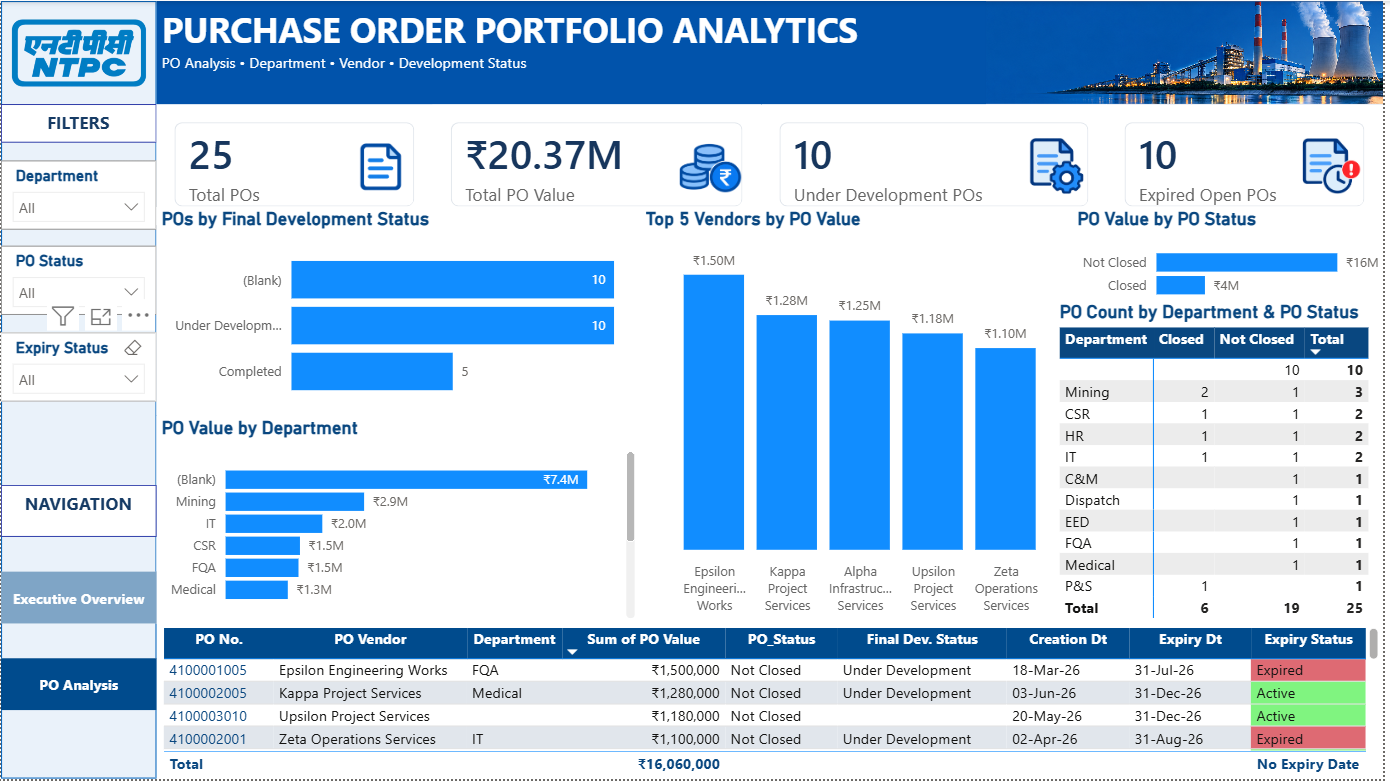

The page's visual inventory and layout, read from the dashboard file:
{"tool":"powerbi","page":{"name":"PO Analysis","canvas":[1280,720],"ordinal":1},"visuals":[{"type":"image","box":[864,0,416,96],"z":0},{"type":"shape","box":[144,0,768,96],"z":1000},{"type":"shape","box":[0,0,144,720],"z":2000},{"type":"textbox","box":[0,96.1,143.8,35.4],"z":3000},{"type":"textbox","box":[144,0,1128,96],"z":4000},{"type":"cardVisual","fields":{"Data":["Fact_PO.Total POs"]},"box":[144,96,256,112],"z":5000,"group":"g1"},{"type":"slicer","fields":{"Values":["Fact_PO.Department"]},"box":[0,147.1,144,64],"z":5000},{"type":"cardVisual","fields":{"Data":["Fact_PO.Under Development POs"]},"box":[704,96,320,112],"z":6000,"group":"g3"},{"type":"slicer","fields":{"Values":["Fact_PO.PO_Status"]},"box":[0,226.8,144,64],"z":6000},{"type":"cardVisual","fields":{"Data":["Fact_PO.Expired Open POs"]},"box":[1024,96,256,112],"z":7000,"group":"g4"},{"type":"slicer","fields":{"Values":["Fact_PO.Expiry Status Column"]},"box":[0,306.5,144,64],"z":7000},{"type":"image","box":[0,0,144,96],"z":8000},{"type":"cardVisual","fields":{"Data":["Fact_PO.Total PO Value"]},"box":[400,96,304,112],"z":11000,"group":"g2"},{"type":"clusteredBarChart","title":"PO Value by Department","fields":{"Category":["Fact_PO.Department"],"Y":["Sum(Fact_PO.PO Value)"]},"box":[144,384,448,192],"z":11000},{"type":"group","id":"g1","title":"Group 1","box":[144,96,256,112],"z":13000},{"type":"clusteredBarChart","title":"POs by Final Development Status","fields":{"Category":["Fact_PO.Final Dev. Status"],"Y":["CountNonNull(Fact_PO.PO No.)"]},"box":[143.9,191.3,448.3,192.7],"z":13500},{"type":"group","id":"g2","title":"Group 2","box":[400,96,304,112],"z":14000},{"type":"group","id":"g3","title":"Group 3","box":[704,96,320,112],"z":15000},{"type":"clusteredColumnChart","title":"Top 5 Vendors by PO Value","fields":{"Category":["Fact_PO.PO Vendor"],"Y":["Sum(Fact_PO.PO Value)"]},"box":[592.2,191.3,399.4,384.1],"z":15500},{"type":"group","id":"g4","title":"Group 4","box":[1024,96,256,112],"z":16000},{"type":"image","box":[320,112,64,80],"z":17000,"group":"g1"},{"type":"image","box":[944,112,64,80],"z":18000,"group":"g3"},{"type":"clusteredBarChart","title":"PO Value by PO Status","fields":{"Category":["Fact_PO.PO_Status"],"Y":["Sum(Fact_PO.PO Value)"]},"box":[991.6,191.3,289.1,96.4],"z":18000},{"type":"image","box":[1200,112,64,80],"z":19000,"group":"g4"},{"type":"textbox","box":[0,448,144,48],"z":19000},{"type":"image","box":[624,112,64,80],"z":20000,"group":"g2"},{"type":"actionButton","box":[0,528,144,48],"z":20000},{"type":"actionButton","box":[0,608,144,48],"z":21000},{"type":"pivotTable","title":"PO Count by Department & PO Status","fields":{"Rows":["Fact_PO.Department"],"Columns":["Fact_PO.PO_Status"],"Values":["CountNonNull(Fact_PO.PO No.)"]},"box":[974.8,277.9,304.5,307.3],"z":21500},{"type":"tableEx","fields":{"Values":["Fact_PO.PO No.","Fact_PO.PO Vendor","Fact_PO.Department","Sum(Fact_PO.PO Value)","Fact_PO.PO_Status","Fact_PO.Final Dev. Status","Fact_PO.Creation Dt","Fact_PO.Expiry Dt","Fact_PO.Expiry Status"]},"box":[144.6,575.2,1135.2,144.6],"z":22000}]}

Visuals, with their boxes in screenshot pixels (x1, y1, x2, y2), scaled from the page's 1280x720 canvas onto the 1390x781 screenshot:
image: pyautogui.locateOnScreen(938, 0, 1389, 104)
shape: pyautogui.locateOnScreen(156, 0, 990, 104)
shape: pyautogui.locateOnScreen(0, 0, 156, 780)
textbox: pyautogui.locateOnScreen(0, 104, 156, 143)
textbox: pyautogui.locateOnScreen(156, 0, 1381, 104)
cardVisual - Fact_PO.Total POs: pyautogui.locateOnScreen(156, 104, 434, 226)
slicer - Fact_PO.Department: pyautogui.locateOnScreen(0, 160, 156, 229)
cardVisual - Fact_PO.Under Development POs: pyautogui.locateOnScreen(764, 104, 1112, 226)
slicer - Fact_PO.PO_Status: pyautogui.locateOnScreen(0, 246, 156, 315)
cardVisual - Fact_PO.Expired Open POs: pyautogui.locateOnScreen(1112, 104, 1389, 226)
slicer - Fact_PO.Expiry Status Column: pyautogui.locateOnScreen(0, 332, 156, 402)
image: pyautogui.locateOnScreen(0, 0, 156, 104)
cardVisual - Fact_PO.Total PO Value: pyautogui.locateOnScreen(434, 104, 764, 226)
"PO Value by Department" clusteredBarChart: pyautogui.locateOnScreen(156, 417, 643, 625)
"Group 1" group: pyautogui.locateOnScreen(156, 104, 434, 226)
"POs by Final Development Status" clusteredBarChart: pyautogui.locateOnScreen(156, 208, 643, 417)
"Group 2" group: pyautogui.locateOnScreen(434, 104, 764, 226)
"Group 3" group: pyautogui.locateOnScreen(764, 104, 1112, 226)
"Top 5 Vendors by PO Value" clusteredColumnChart: pyautogui.locateOnScreen(643, 208, 1077, 624)
"Group 4" group: pyautogui.locateOnScreen(1112, 104, 1389, 226)
image: pyautogui.locateOnScreen(348, 121, 417, 208)
image: pyautogui.locateOnScreen(1025, 121, 1095, 208)
"PO Value by PO Status" clusteredBarChart: pyautogui.locateOnScreen(1077, 208, 1389, 312)
image: pyautogui.locateOnScreen(1303, 121, 1373, 208)
textbox: pyautogui.locateOnScreen(0, 486, 156, 538)
image: pyautogui.locateOnScreen(678, 121, 747, 208)
actionButton: pyautogui.locateOnScreen(0, 573, 156, 625)
actionButton: pyautogui.locateOnScreen(0, 660, 156, 712)
"PO Count by Department & PO Status" pivotTable: pyautogui.locateOnScreen(1059, 301, 1389, 635)
tableEx - Fact_PO.PO No. x Fact_PO.PO Vendor: pyautogui.locateOnScreen(157, 624, 1389, 780)
